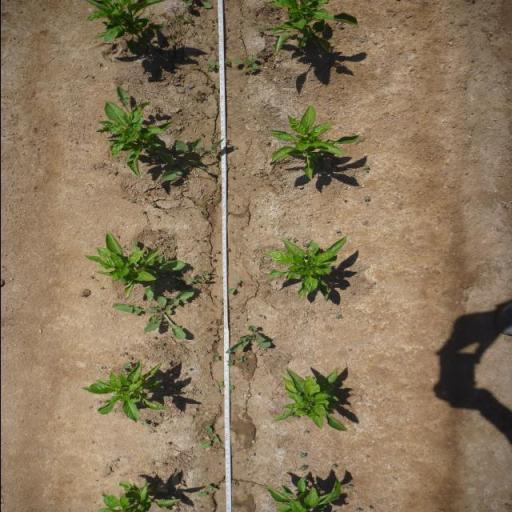plant: (264, 104, 361, 183), (258, 234, 351, 302), (266, 0, 362, 61), (96, 101, 174, 173), (78, 362, 168, 423), (78, 232, 165, 295), (267, 368, 347, 432), (80, 0, 170, 46), (262, 477, 344, 512), (94, 481, 180, 512)
weed: (110, 289, 196, 342), (157, 135, 226, 184), (228, 324, 270, 352), (197, 424, 221, 450), (184, 269, 212, 285), (232, 55, 258, 72), (196, 484, 218, 499), (227, 280, 241, 294), (175, 14, 193, 24), (192, 90, 208, 101), (216, 381, 234, 390), (205, 60, 220, 70), (118, 362, 132, 372), (296, 464, 308, 472), (296, 450, 306, 459), (256, 26, 262, 40), (139, 418, 149, 426), (212, 352, 220, 362), (362, 163, 370, 173), (234, 356, 246, 362), (224, 58, 232, 66), (344, 484, 353, 490), (226, 360, 234, 366), (117, 352, 126, 357), (204, 327, 211, 333), (354, 508, 364, 512), (330, 463, 338, 468), (335, 314, 343, 319), (362, 196, 370, 201), (231, 145, 239, 150), (196, 208, 202, 214), (242, 361, 248, 366), (213, 250, 220, 254), (334, 230, 341, 234), (291, 239, 297, 243), (367, 506, 374, 509), (301, 243, 307, 246)
